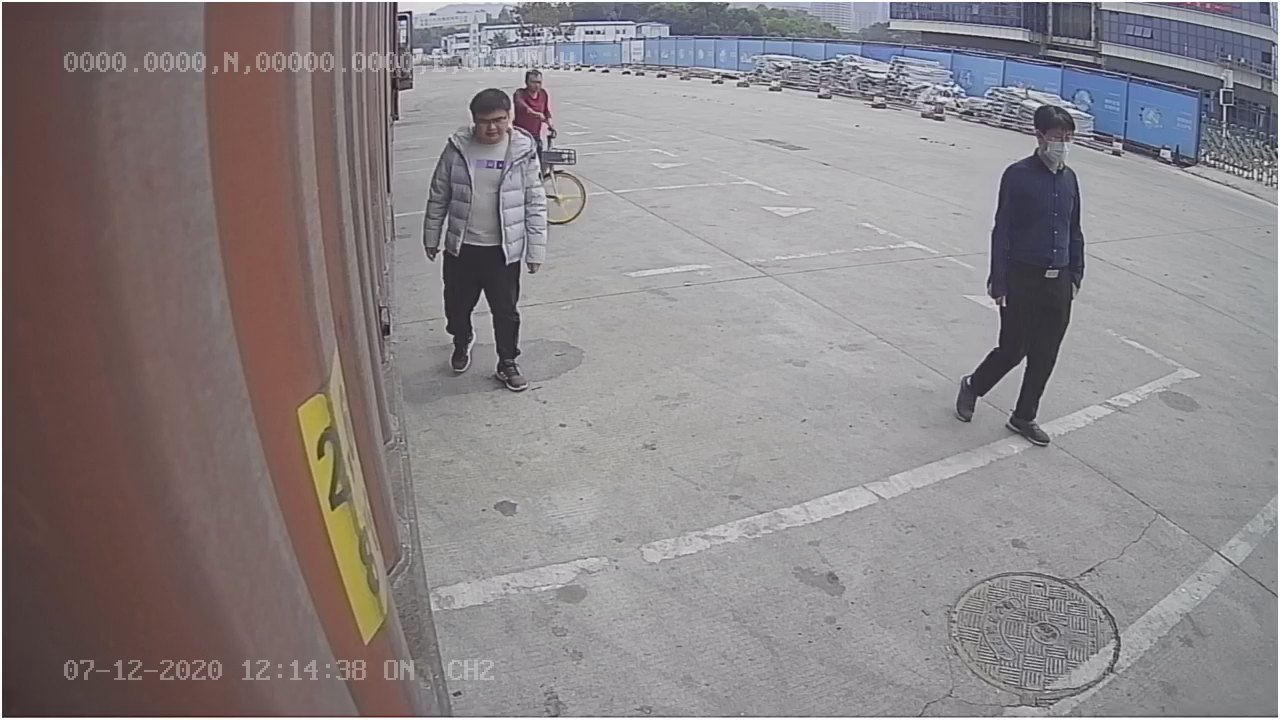person: (952, 81, 1087, 451)
